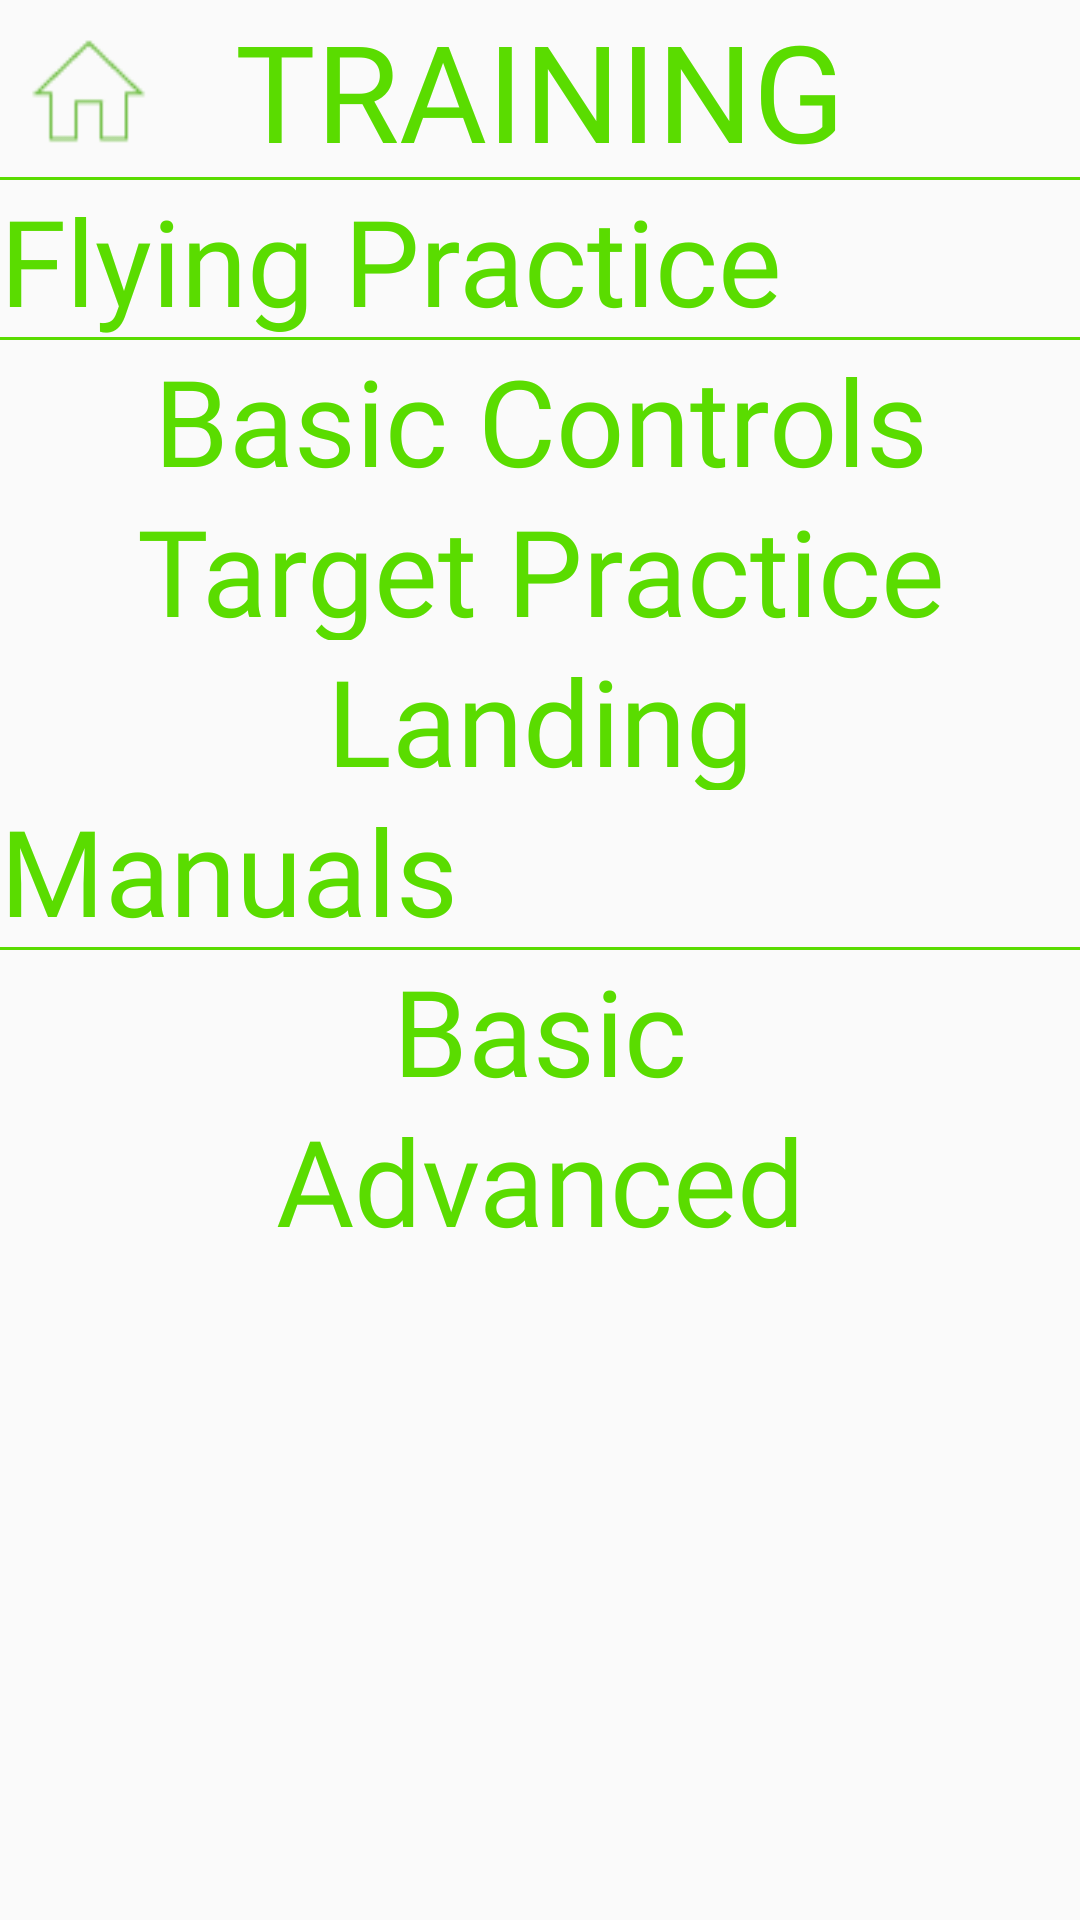

Point at icon controls on the screen. Image size 1080 x 1920, points as (x,y).
home: (88,91)
